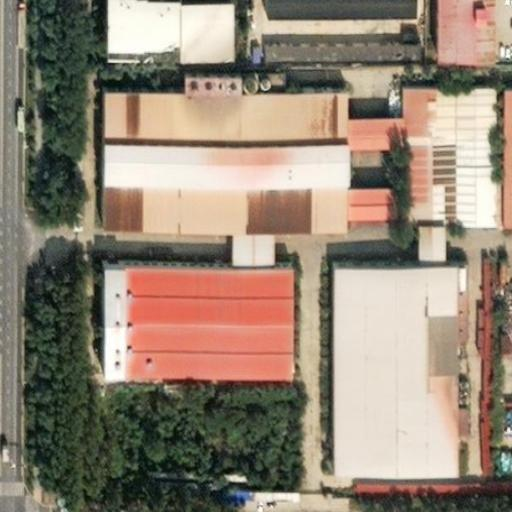building: (85, 69, 390, 219), (318, 250, 456, 458), (86, 251, 277, 364), (390, 75, 484, 213), (472, 262, 501, 473), (353, 472, 512, 496), (491, 78, 512, 217), (251, 34, 407, 50), (227, 485, 298, 506), (217, 219, 258, 251), (406, 213, 433, 250)
